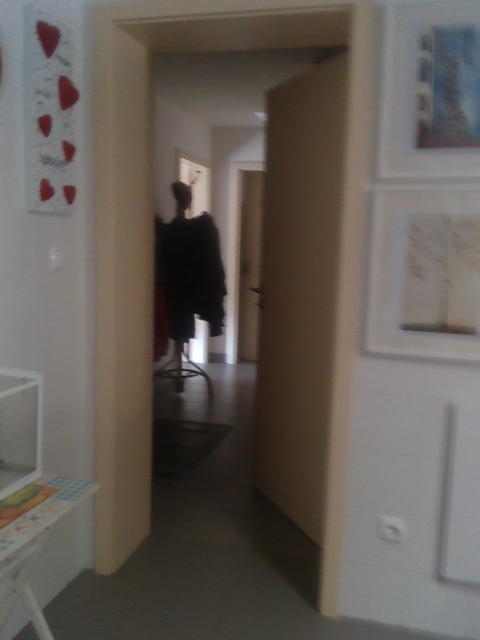open: (89, 0, 375, 628)
